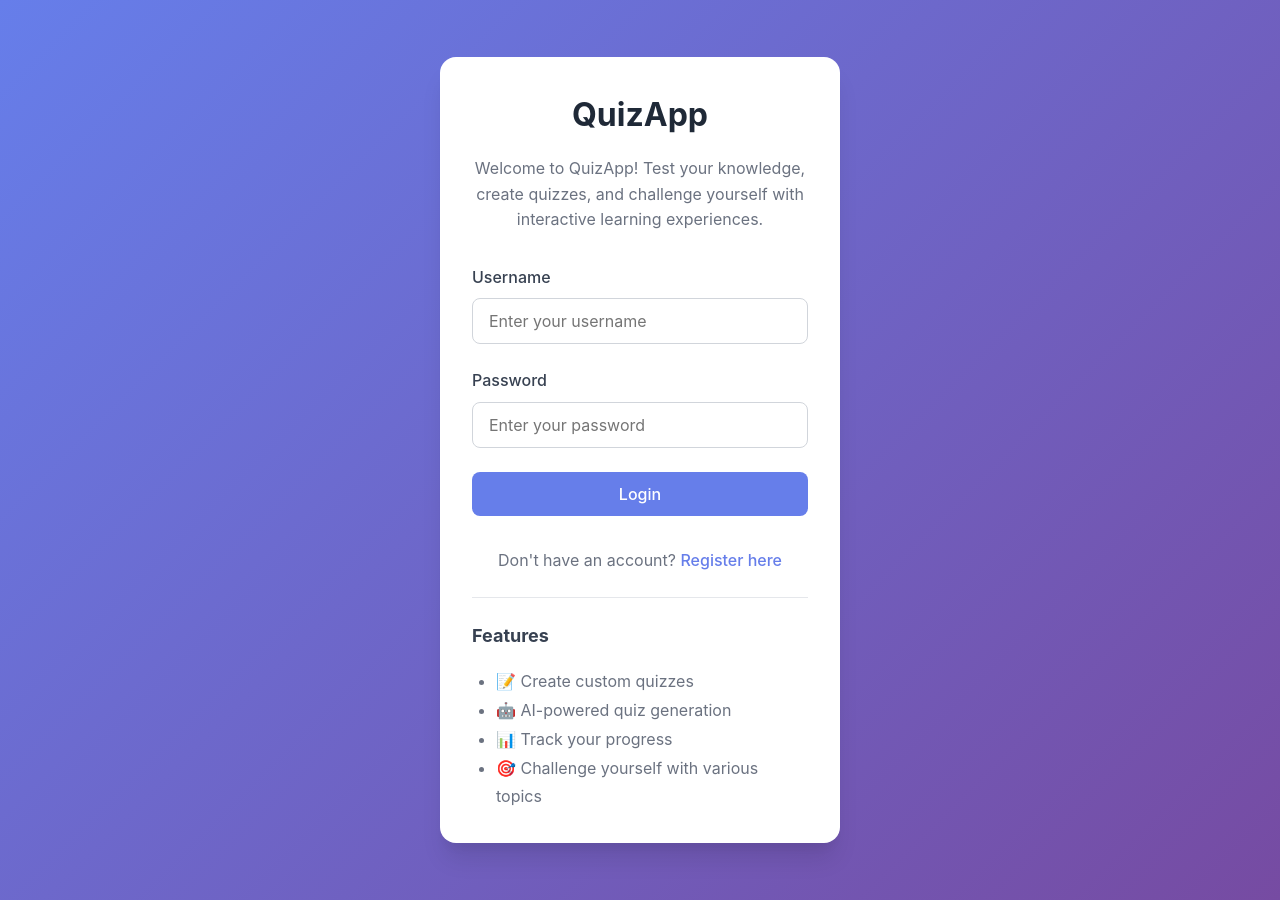
Test: Login › shows error when submitting empty password
Type "testuser" into the field labelled "Username" at (640, 321), box x1=472 y1=298 x2=808 y2=344
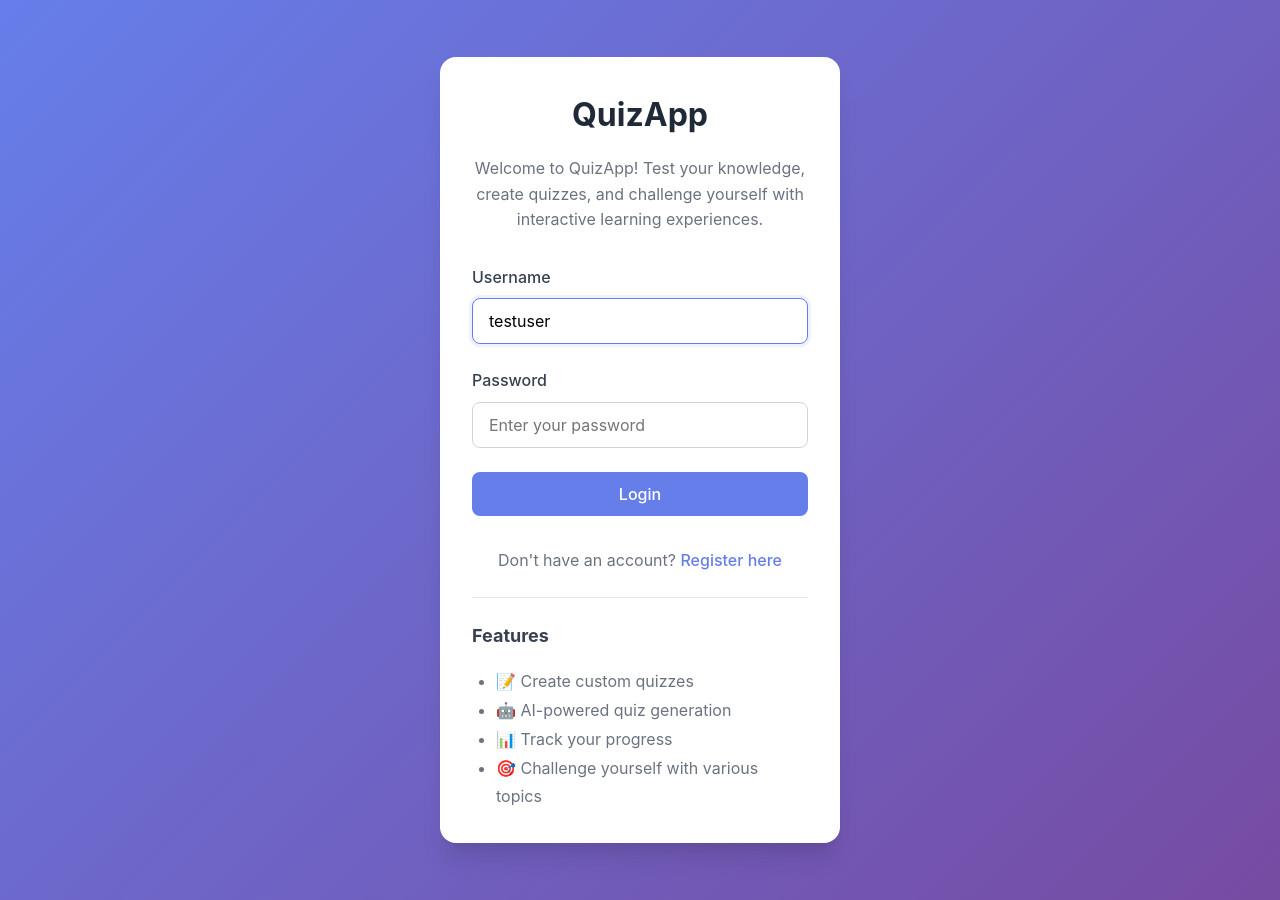
Click the button "Login" at (640, 494), box x1=472 y1=472 x2=808 y2=516
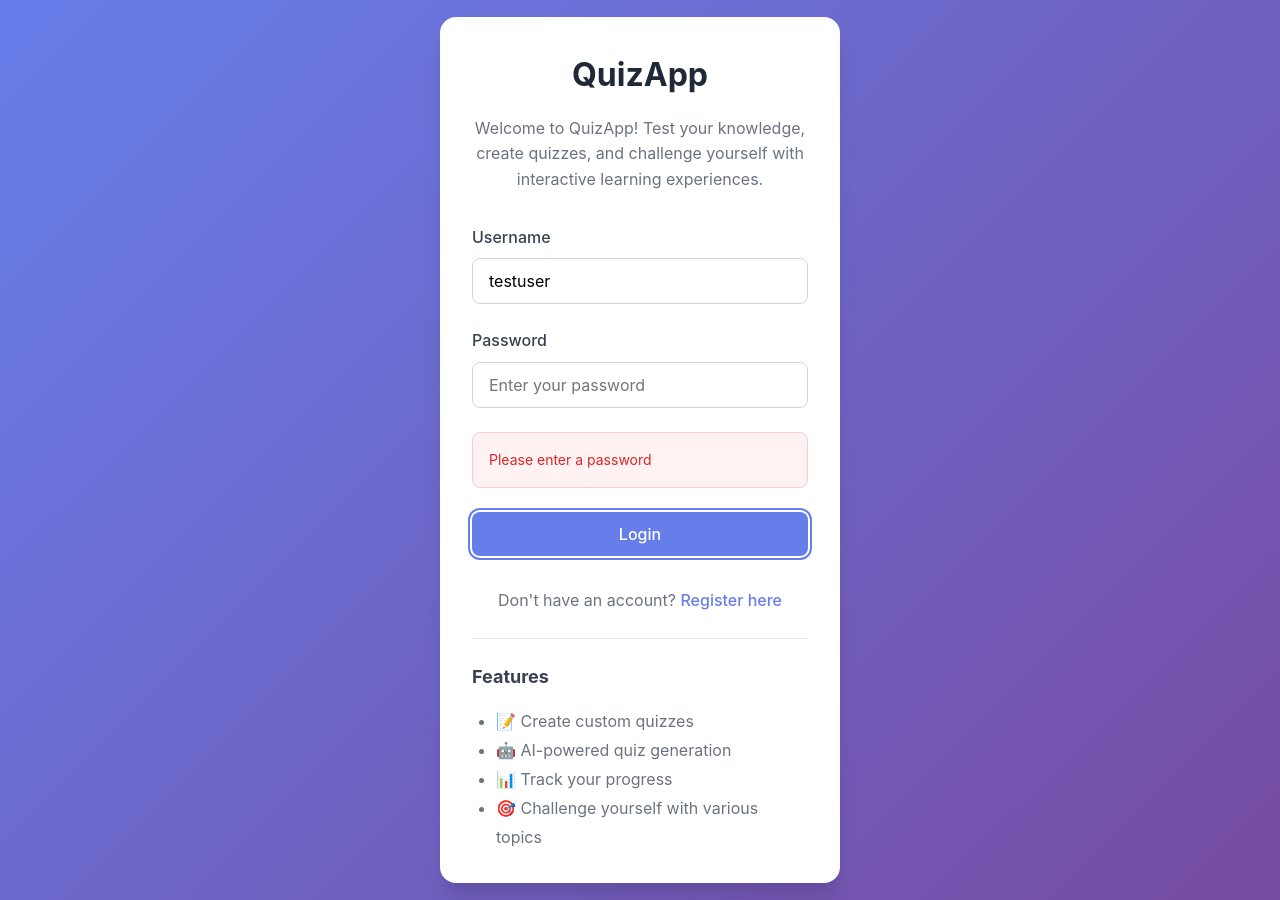
Expected: the message reads "Please enter a password", x1=489 y1=451 x2=652 y2=468
